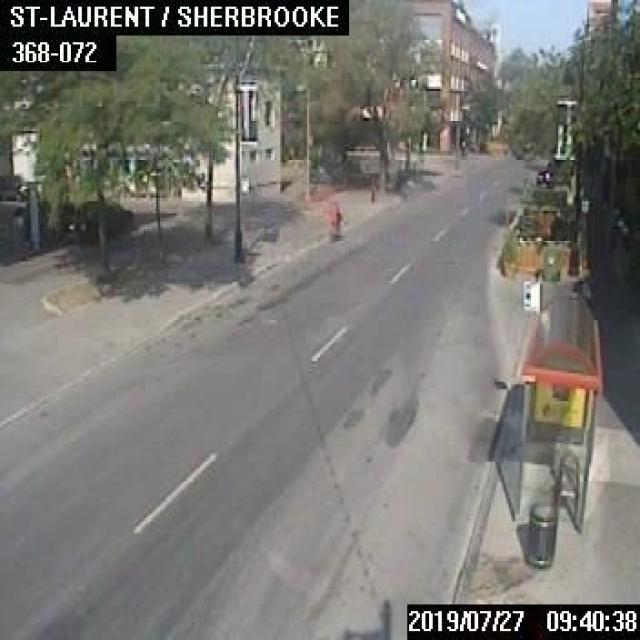cyclist: (328, 197, 347, 238)
vehicle: (60, 197, 133, 239), (535, 165, 551, 185)
